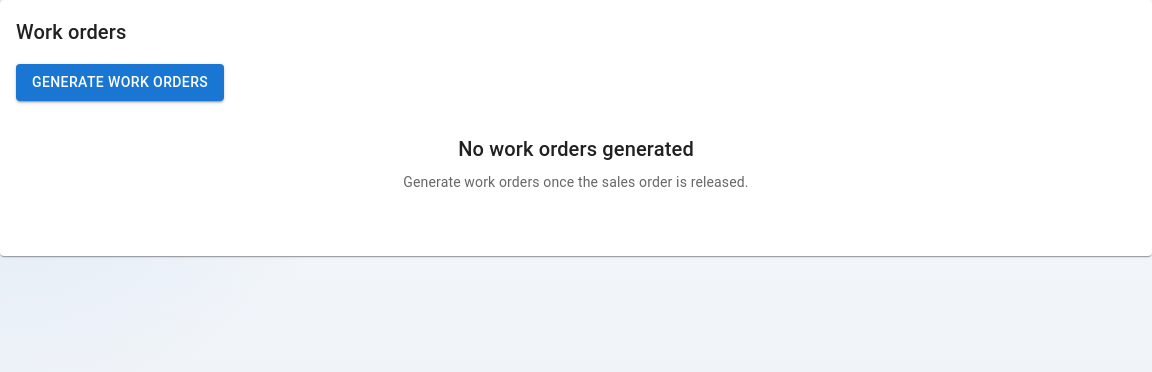
Test case: WorkOrderGenerationAction › generates work orders and shows success feedback
Step 1. Click the button "Generate work orders" → (120, 82), box top-left (16, 64), bottom-right (224, 100)
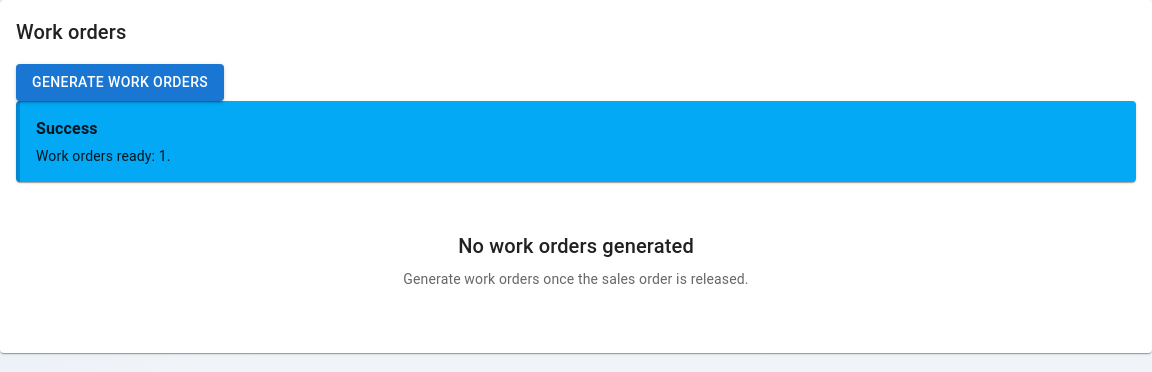
expect the text "Work orders ready: 1." is shown: met, box top-left (36, 148), bottom-right (171, 164)
